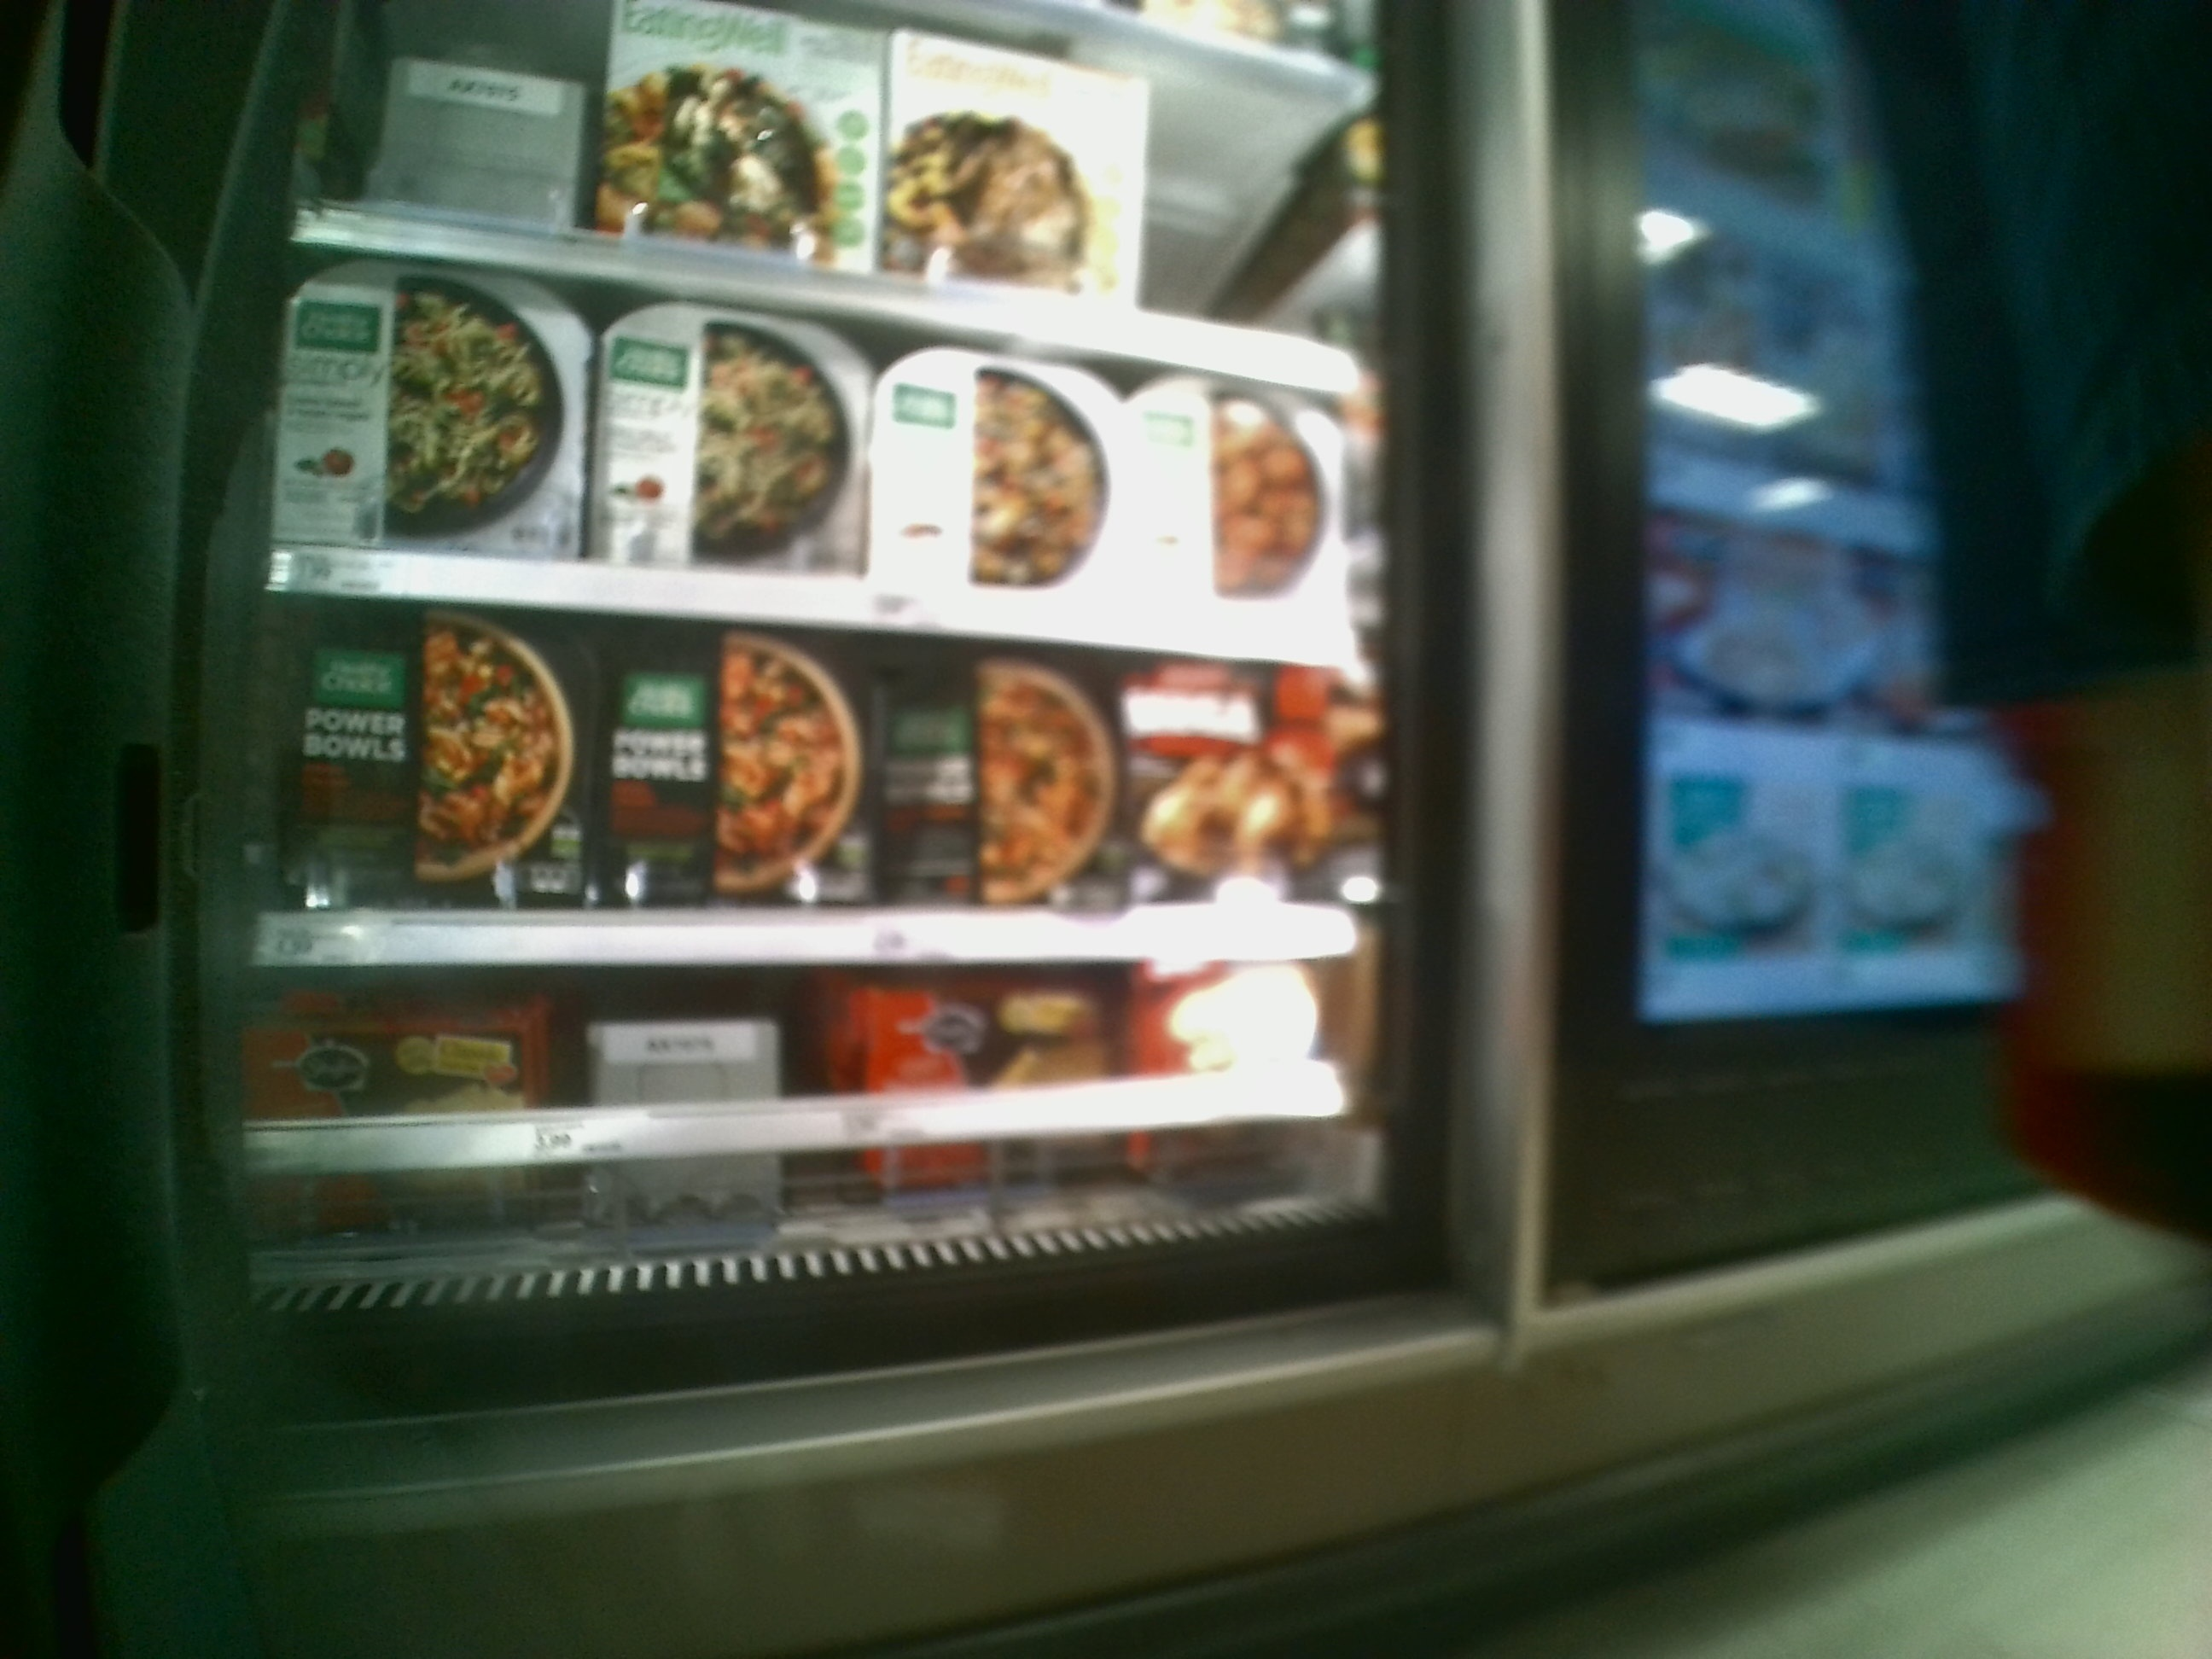shelf: (284, 221, 1378, 666), (249, 586, 1372, 962), (249, 964, 1399, 1321)
